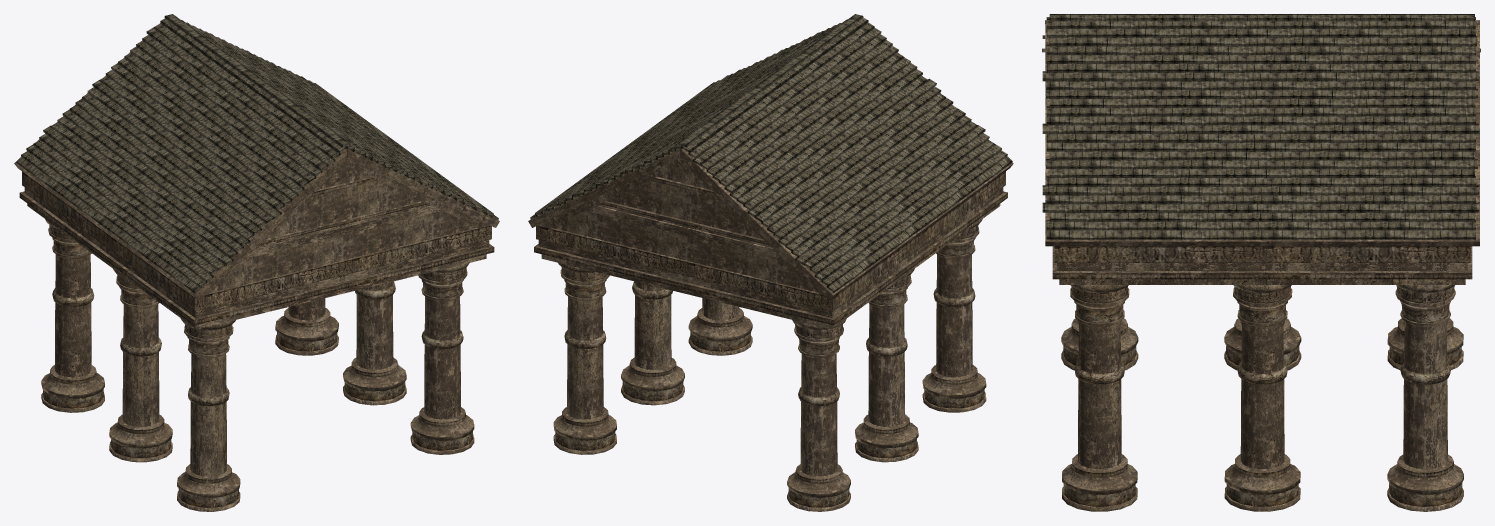
File: materials_5_building_37.fbx
3 renders of one model, left to right at view 1: azimuth 30°, elevation 25°; view 2: azimuth 150°, elevation 25°; view 3: azimuth 270°, elevation 25°, orthographic. The views are drawn at different scales.
Visible parts, largest first — view 1: materials_5_building_37; view 2: materials_5_building_37; view 3: materials_5_building_37.
Part boxes in pixels (box(x1,y1,x2,y2)): materials_5_building_37: box(14, 14, 499, 511); materials_5_building_37: box(528, 14, 1013, 511); materials_5_building_37: box(1042, 14, 1480, 511).
Bounding box in the file's own units: 610 × 651 × 632.
